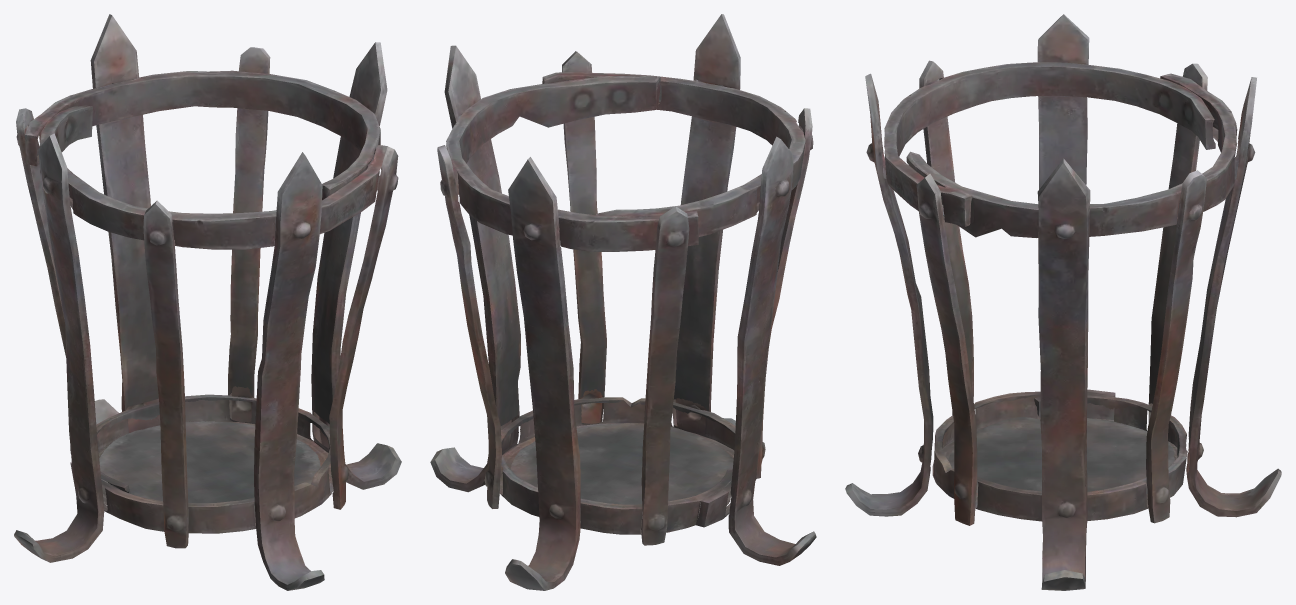
The picture shows the model from 3 angles, left to right: view 1: azimuth 30°, elevation 25°; view 2: azimuth 150°, elevation 25°; view 3: azimuth 270°, elevation 25°; orthographic projection.
Visible parts, largest first — view 1: SM_Garou_Fire_01_LOD0; view 2: SM_Garou_Fire_01_LOD0; view 3: SM_Garou_Fire_01_LOD0.
Part boxes in pixels (x1,y1,x2,y2): SM_Garou_Fire_01_LOD0: (14,14,401,590); SM_Garou_Fire_01_LOD0: (430,14,816,590); SM_Garou_Fire_01_LOD0: (845,14,1281,590).
Size of the model in its own units: 0.8372 by 0.9395 by 0.8509.
1 material, 1 textured.
